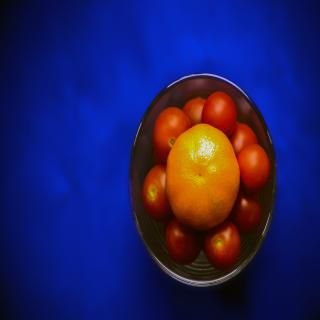tomato: (154, 107, 197, 163), (141, 164, 170, 221), (238, 144, 271, 194), (208, 224, 244, 268), (167, 221, 201, 264), (223, 121, 258, 157), (206, 95, 242, 129), (232, 192, 262, 230), (180, 96, 206, 127), (150, 150, 161, 168)
